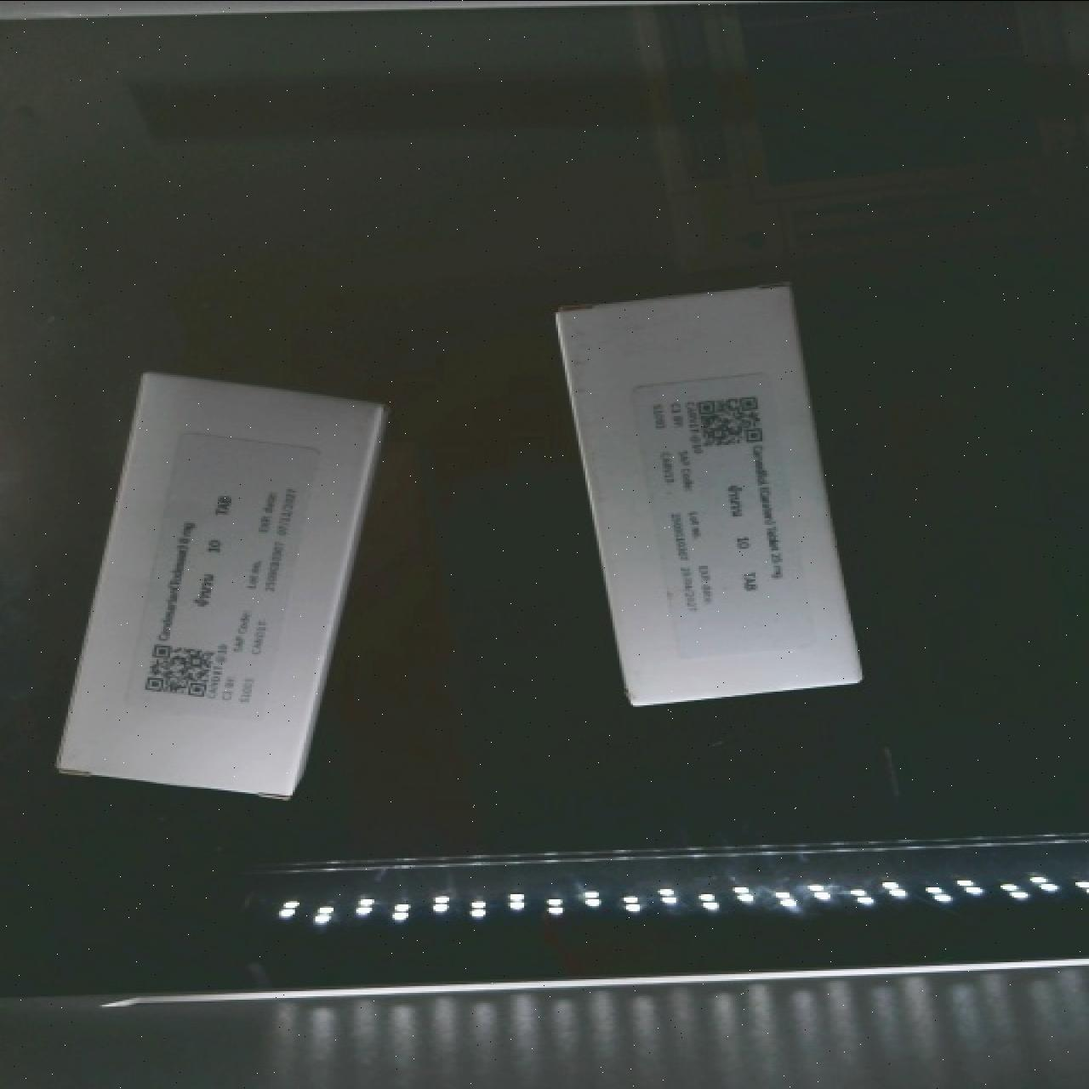qr_code: (121, 628, 238, 716), (673, 367, 778, 461)
